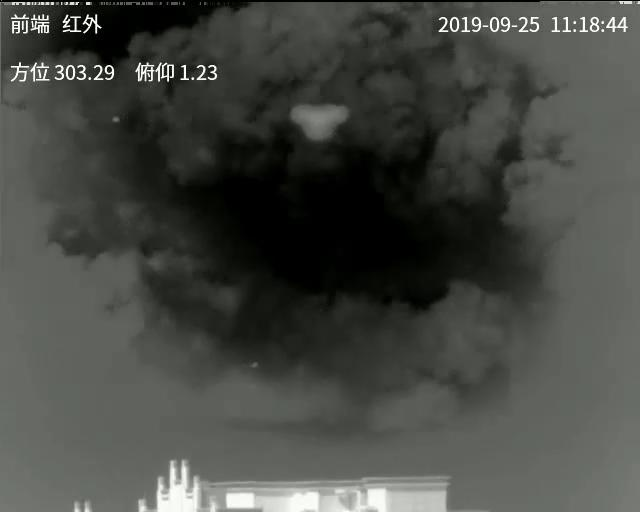uav: (287, 97, 342, 134)
